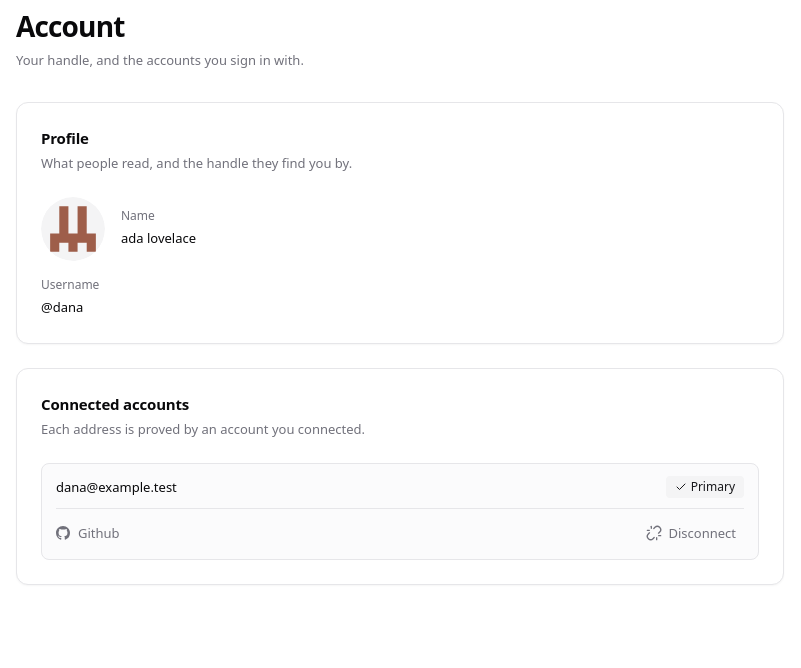
Test case: unlinking › surfaces the server's reason when unlinking is refused
Click the button "Disconnect".
click(691, 533)  # box top-left (638, 519), bottom-right (744, 547)
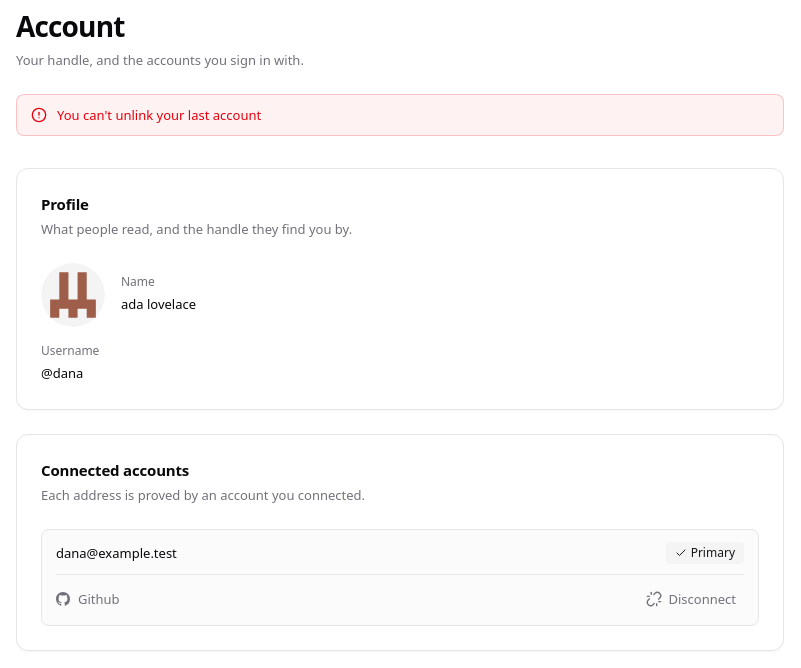
Expected: the text "You can't unlink your last account" is shown, top-left (57, 106), bottom-right (261, 124)
